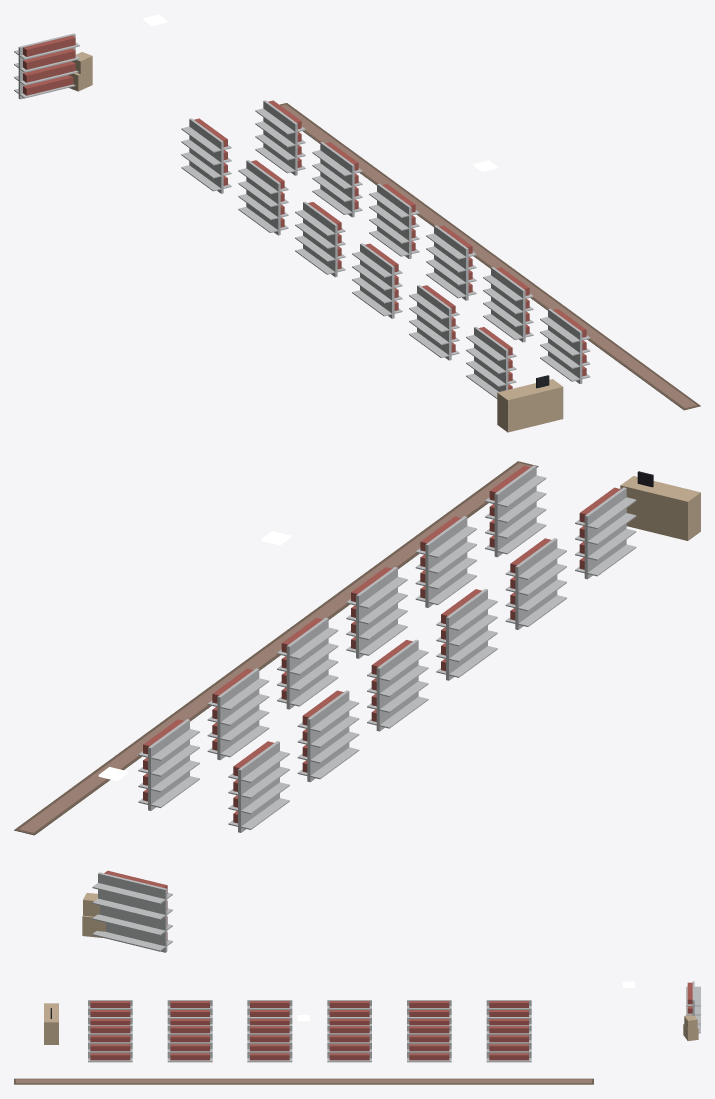
The model's file is fine-s0.glb.
The picture shows the model from 3 angles, top to bottom: view 1: azimuth 30°, elevation 25°; view 2: azimuth 150°, elevation 25°; view 3: azimuth 270°, elevation 25°; orthographic projection. The views are drawn at different scales.
Parts seen in each view (by area): view 1: soft-s0, shelving.000, shop-counter.000, shelf.003, shelf.004, shelf.006, shelf.009, shelf.000, shelf.001, shelf.007, shelf.010, shelf.002 (+4 smaller); view 2: soft-s0, shelving.000, shop-counter.000, shelf.001, shelf.002, shelf.007, shelf.010, shelf.004, shelf.005, shelf.008, shelf.011, shelf.006 (+3 smaller); view 3: soft-s0, shelf.006, shelf.009, shelf.010, shelf.007, shelf.008, shelf.011, shelf.000, shelf.003, shelf.004, shelf.001, shelf.002 (+4 smaller).
Boxes of the visible parts, box(x1,y1,x2,y2) form: soft-s0: box(279, 103, 700, 410); shelving.000: box(14, 33, 79, 99); shop-counter.000: box(497, 375, 563, 432); shelf.003: box(352, 243, 402, 318); shelf.004: box(409, 285, 459, 360); shelf.006: box(255, 100, 305, 175); shelf.009: box(426, 225, 476, 300); shelf.000: box(181, 118, 231, 193); shelf.001: box(238, 160, 288, 235); shelf.007: box(312, 142, 362, 217); shelf.010: box(483, 267, 533, 342); shelf.002: box(295, 201, 345, 277); soft-s0: box(14, 461, 538, 835); shelving.000: box(92, 870, 172, 952); shop-counter.000: box(620, 471, 700, 540); shelf.001: box(297, 690, 359, 782); shelf.002: box(367, 639, 428, 731); shelf.007: box(207, 668, 269, 760); shelf.010: box(415, 516, 476, 607); shelf.004: box(505, 538, 566, 629); shelf.005: box(575, 487, 636, 579); shelf.008: box(277, 617, 338, 709); shelf.011: box(485, 465, 546, 557); shelf.006: box(138, 719, 199, 810); soft-s0: box(14, 1078, 593, 1084); shelf.006: box(486, 1025, 531, 1062); shelf.009: box(247, 1025, 292, 1062); shelf.010: box(167, 1025, 212, 1062); shelf.007: box(407, 1025, 451, 1062); shelf.008: box(327, 1025, 371, 1062); shelf.011: box(88, 1025, 132, 1062); shelf.000: box(486, 1000, 531, 1025); shelf.003: box(247, 1000, 292, 1025); shelf.004: box(167, 1000, 212, 1025); shelf.001: box(407, 1000, 451, 1025); shelf.002: box(327, 1000, 371, 1025).
Bounding box in the file's own units: 6.37 × 2.83 × 27.57.
